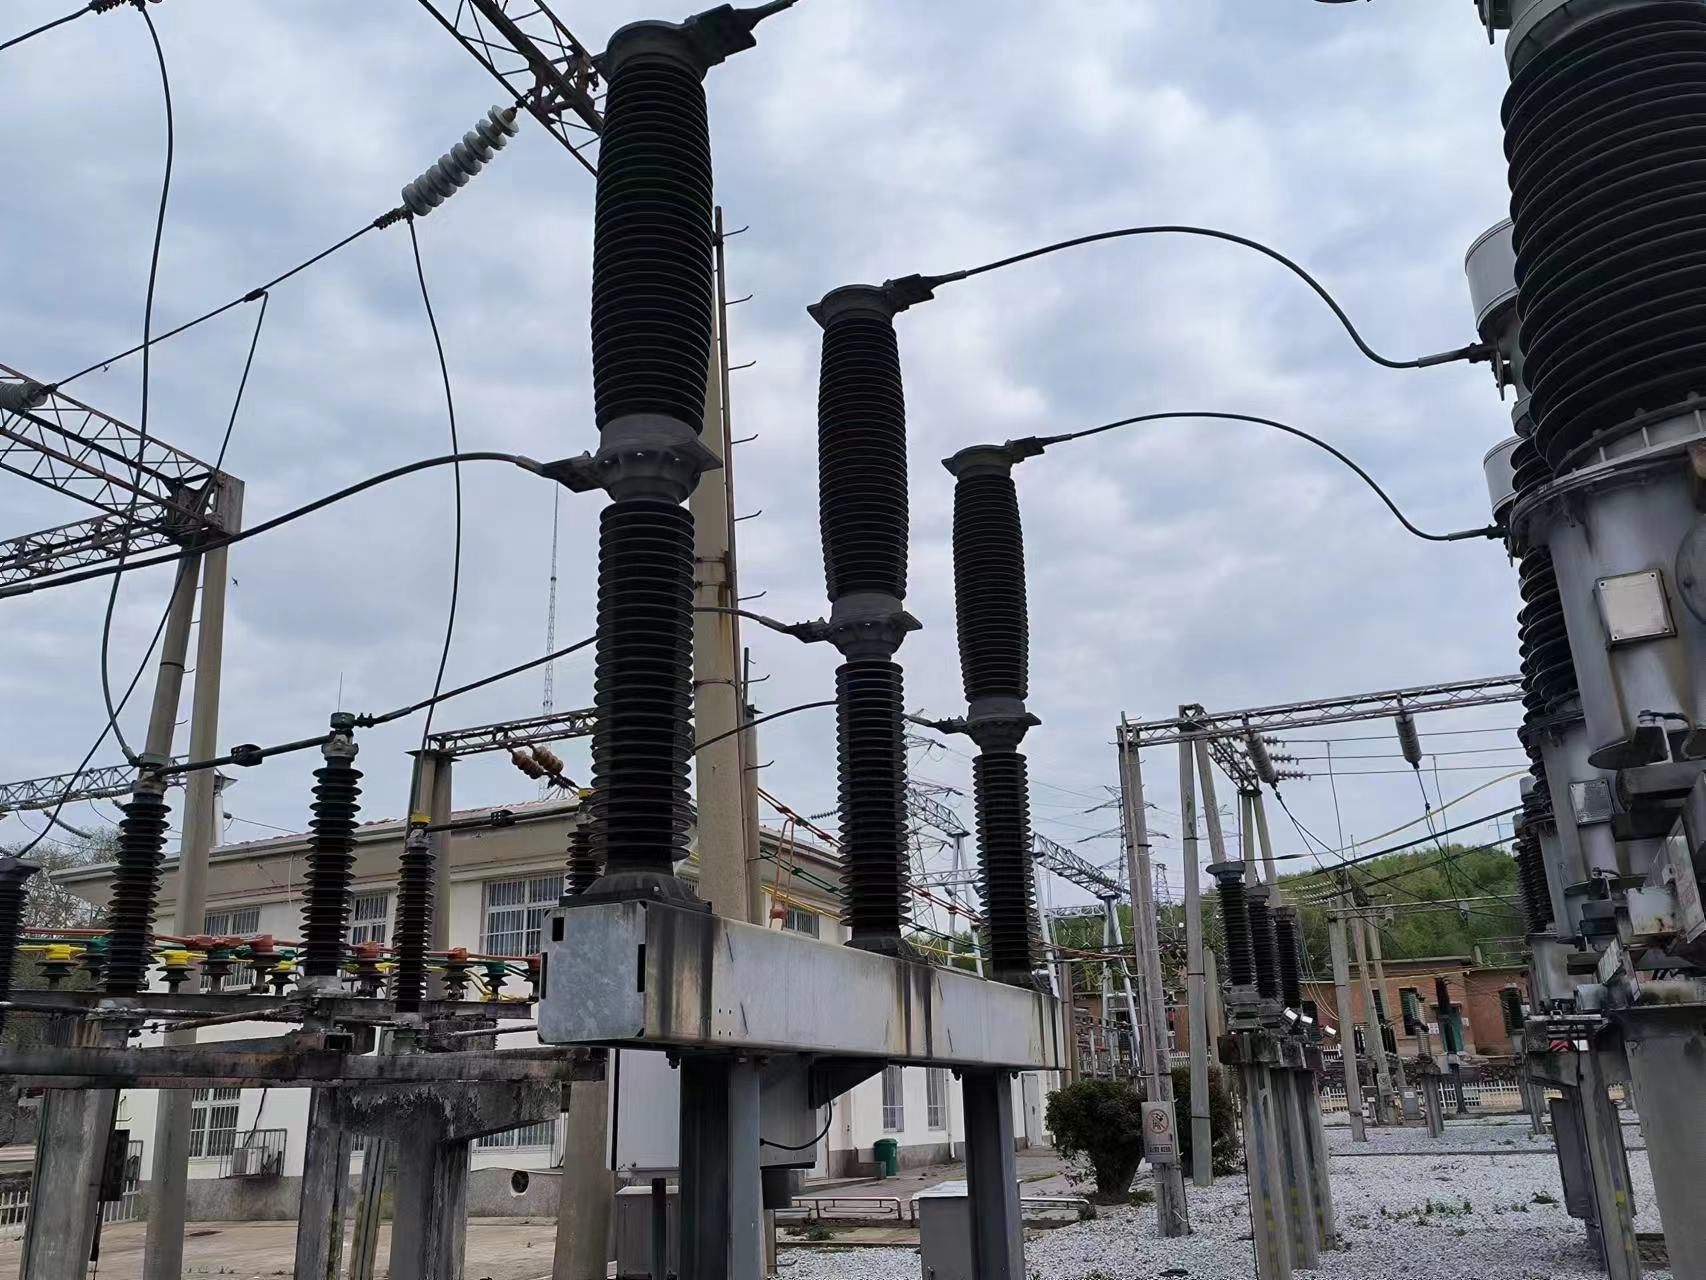Circuit-breaker: (587, 3, 752, 881), (803, 274, 945, 941), (940, 430, 1080, 969)
